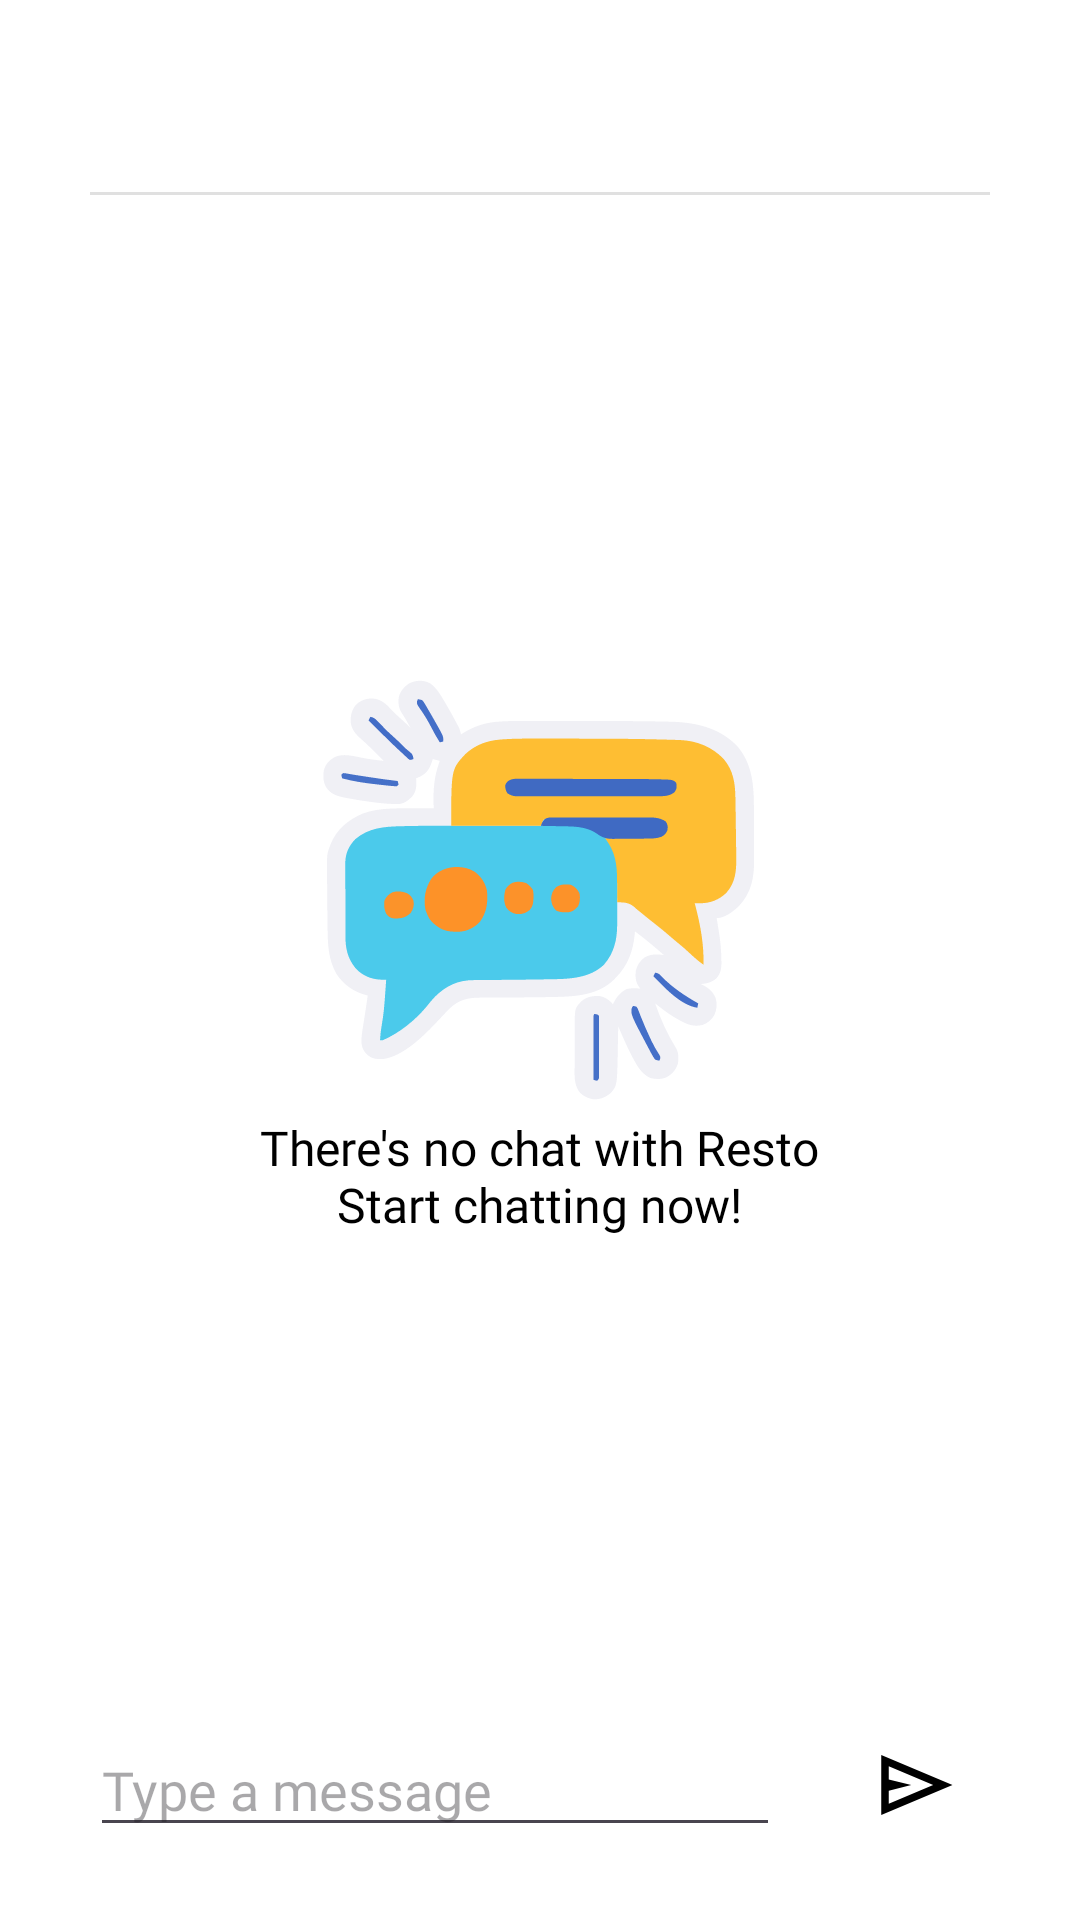

Named icons in this screenshot (1080 x 1920) and their centers, (x=x, y=y):
send: (x=916, y=1785)
